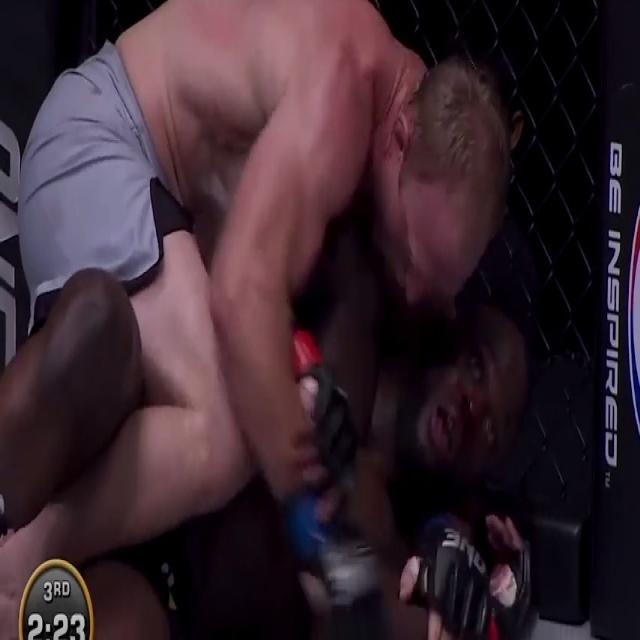fight: (14, 0, 532, 639)
